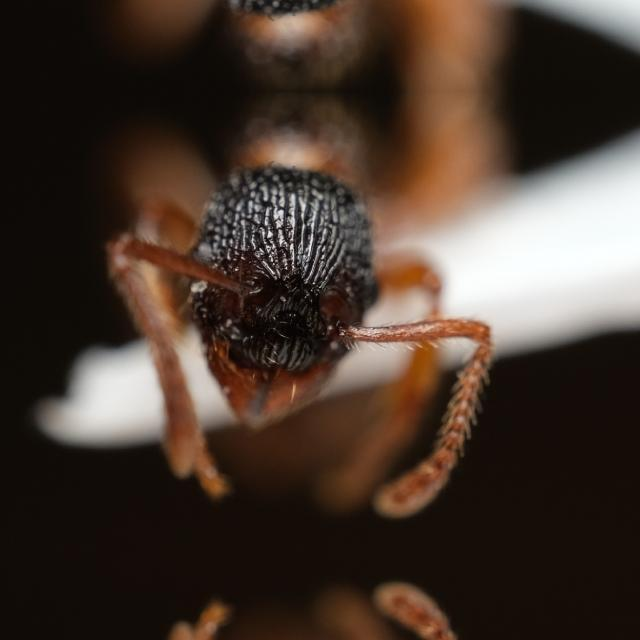Myrmica: (93, 91, 621, 493), (93, 0, 621, 88)
